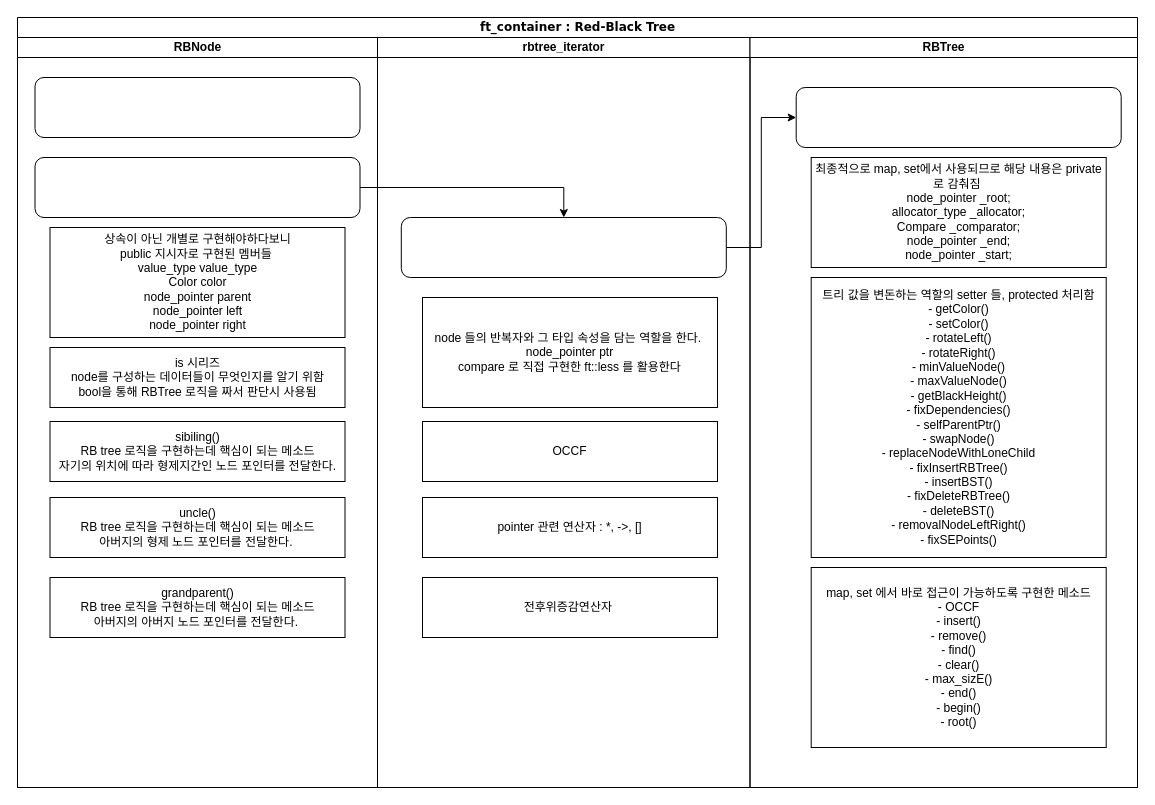
Image size: 1155x805. Some labels were removed from this diagram. Here are the shapes that lost their labels. From the top down, the box of each, then its label:
(34, 76, 360, 138): enum : RED, BLACK, NIL NIL : 노드 항상 맨 마지막 자식으로 있지만 BLACK, RED가 아닌 경우
(795, 86, 1121, 148): RBTree 트리 클래스 전체를 담당하는 루트, 데이터를 담는 할당기 가장 최소값, 최대값을 나타내는 node_pointer를 담고 있다
(34, 156, 360, 218): RBNode RB tree 를 구성하는 최소 단위 자료구조
(400, 216, 726, 278): rbtree_iterator iterator_traits 를 사용하여 rb node의 접근에 편리한 반복자를 구현
